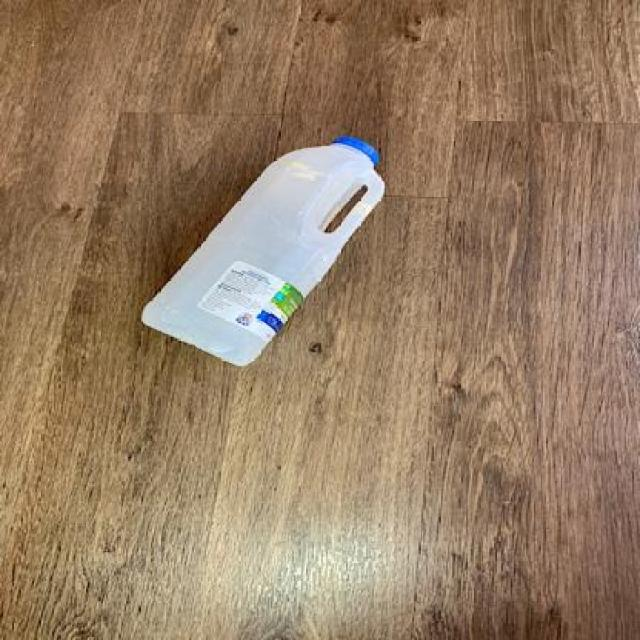trash: (134, 136, 398, 372)
